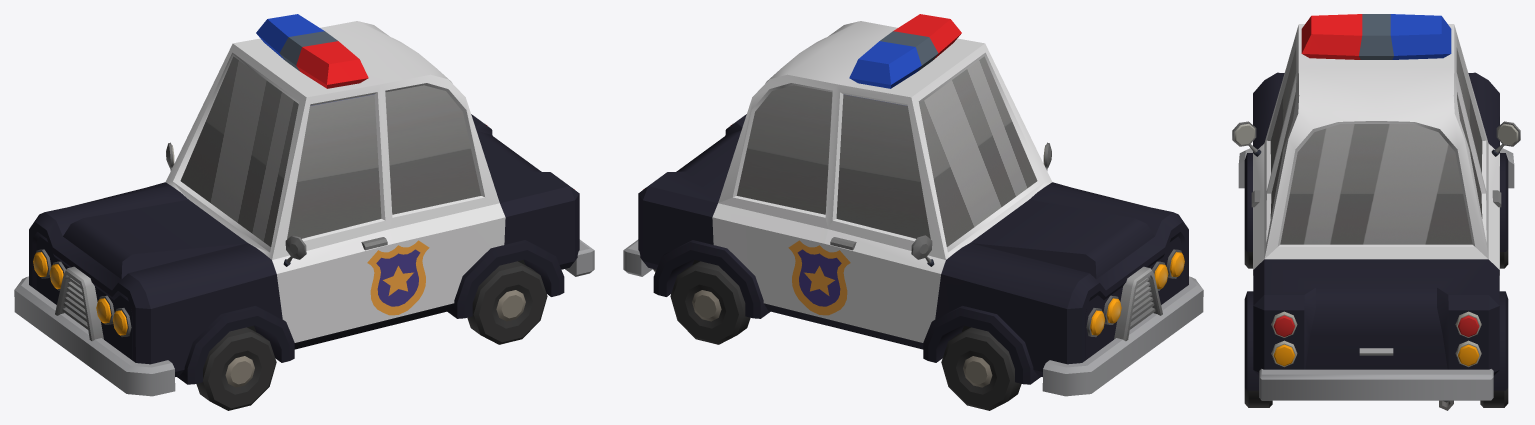
File: Car_Police_4_A_2.gltf
3 renders of one model, left to right at view 1: azimuth 30°, elevation 25°; view 2: azimuth 150°, elevation 25°; view 3: azimuth 270°, elevation 25°, orthographic. The views are drawn at different scales.
Visible parts, largest first — view 1: Car_Police_4_A_2, RL, FL; view 2: Car_Police_4_A_2, RR, FR; view 3: Car_Police_4_A_2, RL, RR.
Part boxes in pixels (x1,y1,x2,y2): Car_Police_4_A_2: [14, 14, 594, 396]; RL: [467, 261, 547, 344]; FL: [196, 327, 276, 410]; Car_Police_4_A_2: [623, 14, 1203, 396]; RR: [670, 261, 750, 344]; FR: [941, 327, 1021, 410]; Car_Police_4_A_2: [1232, 14, 1520, 410]; RL: [1244, 388, 1272, 407]; RR: [1480, 388, 1508, 407].
Bounding box in the file's own units: 3.36 × 2 × 1.7.
Materials: 3 (3 with a texture image).
